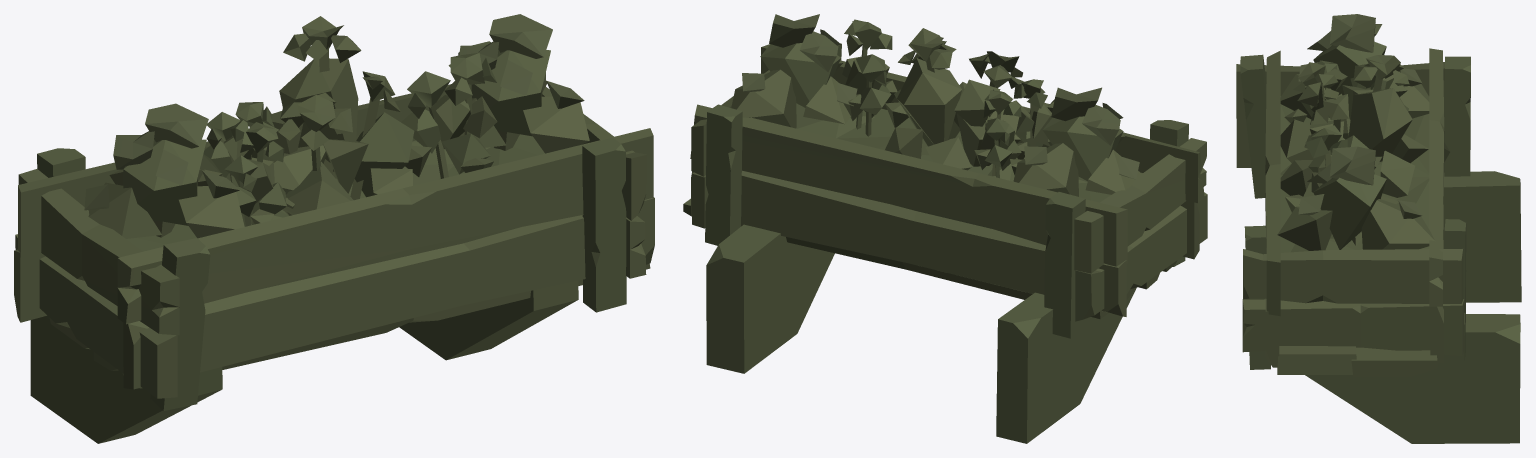
The model's file is kingdom_SM_Prop_PlanterBox_Small_Preset_03.gltf.
3 renders of one model, left to right at view 1: azimuth 30°, elevation 25°; view 2: azimuth 150°, elevation 25°; view 3: azimuth 270°, elevation 25°, orthographic. The views are drawn at different scales.
Visible parts, largest first — view 1: SM_Prop_PlanterBox_Small_Preset_03; view 2: SM_Prop_PlanterBox_Small_Preset_03; view 3: SM_Prop_PlanterBox_Small_Preset_03.
Boxes of the visible parts, left/top/right/bottom form: SM_Prop_PlanterBox_Small_Preset_03: left=14, top=14, right=654, bottom=443; SM_Prop_PlanterBox_Small_Preset_03: left=683, top=14, right=1207, bottom=443; SM_Prop_PlanterBox_Small_Preset_03: left=1236, top=14, right=1521, bottom=443.
Bounding box in the file's own units: 1.48 × 1.01 × 0.8326.
1 material, 1 textured.
